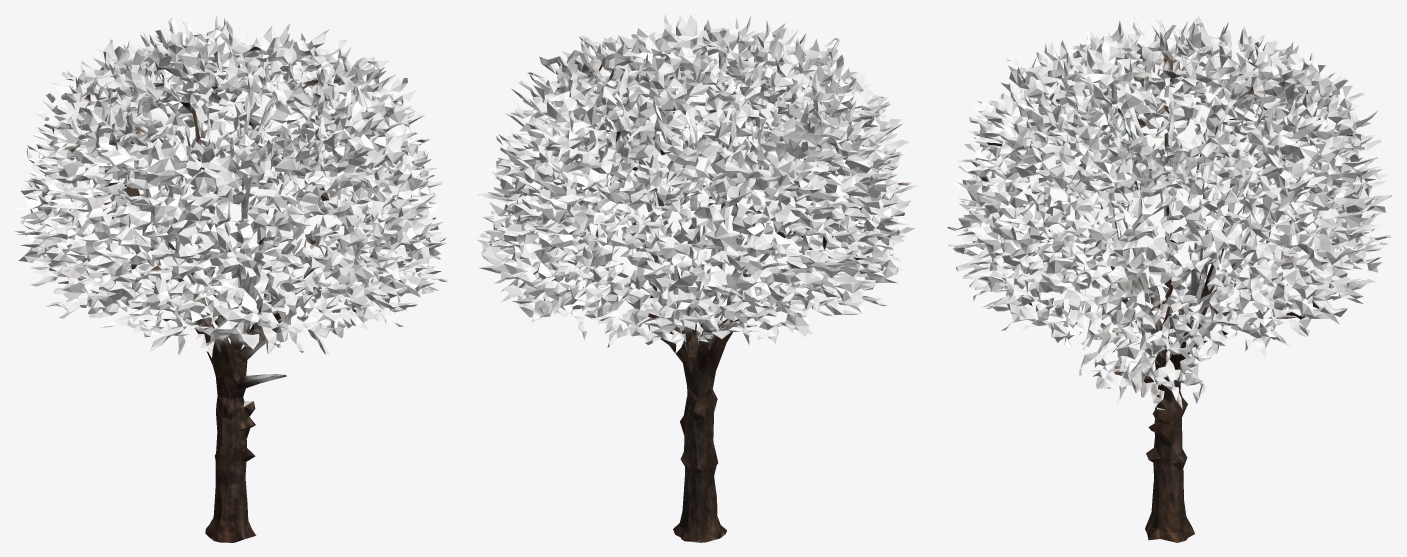
The model's file is mdl_tree_001.glb.
3 renders of one model, left to right at view 1: azimuth 30°, elevation 25°; view 2: azimuth 150°, elevation 25°; view 3: azimuth 270°, elevation 25°, orthographic.
Visible parts, largest first — view 1: tmpq61cpbf_.ply; view 2: tmpq61cpbf_.ply; view 3: tmpq61cpbf_.ply.
Boxes of the visible parts, <box> form: tmpq61cpbf_.ply: <box>15,14,447,542</box>; tmpq61cpbf_.ply: <box>476,14,917,542</box>; tmpq61cpbf_.ply: <box>947,15,1391,542</box>.
Bounding box in the file's own units: 0.8741 × 0.9859 × 0.8806.
1 material, 1 textured.
